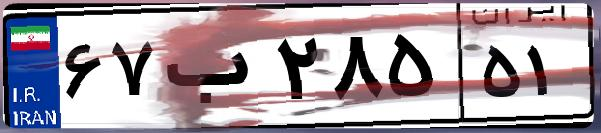1: (525, 38, 570, 115)
2: (270, 28, 330, 110)
5: (385, 28, 445, 110), (475, 38, 525, 113)
6: (57, 26, 110, 100)
7: (110, 28, 158, 98)
8: (330, 28, 385, 110)
ب: (158, 20, 270, 120)
